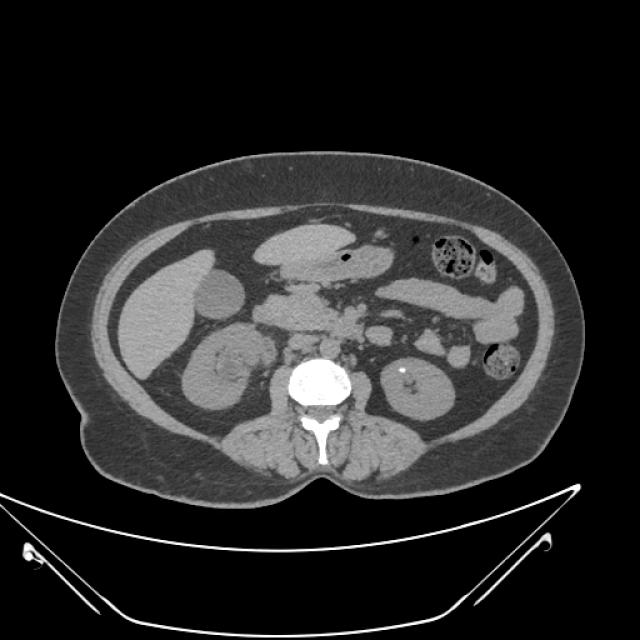kidney: (176, 318, 280, 414), (377, 353, 460, 424)
stone: (394, 363, 410, 375)
